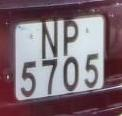0: (60, 54, 83, 95)
5: (17, 59, 40, 101), (81, 50, 101, 92)
7: (39, 56, 62, 98)
N: (38, 18, 60, 60)
P: (60, 17, 80, 57)
